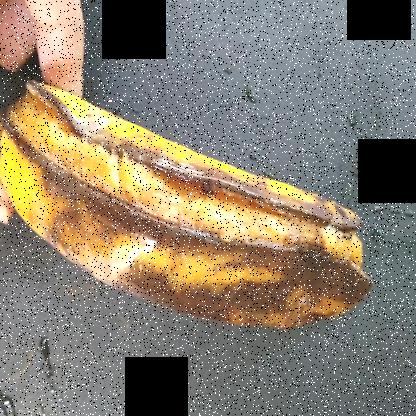rotten: (0, 68, 371, 376)
